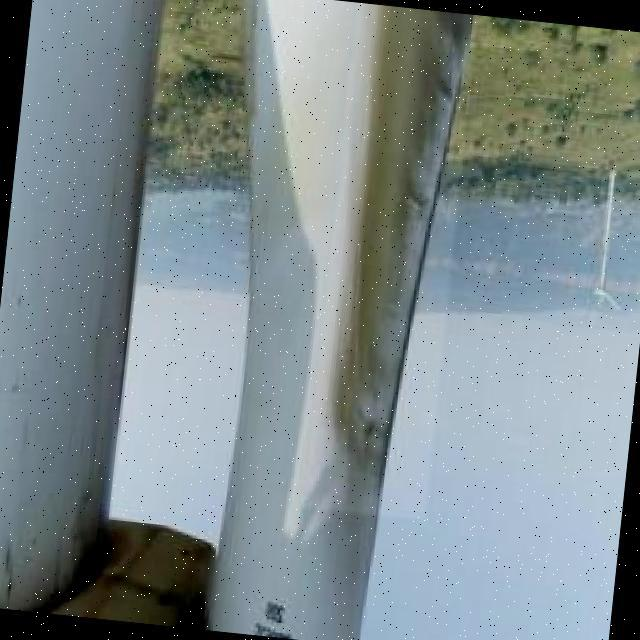Dirt: (329, 3, 474, 502)
